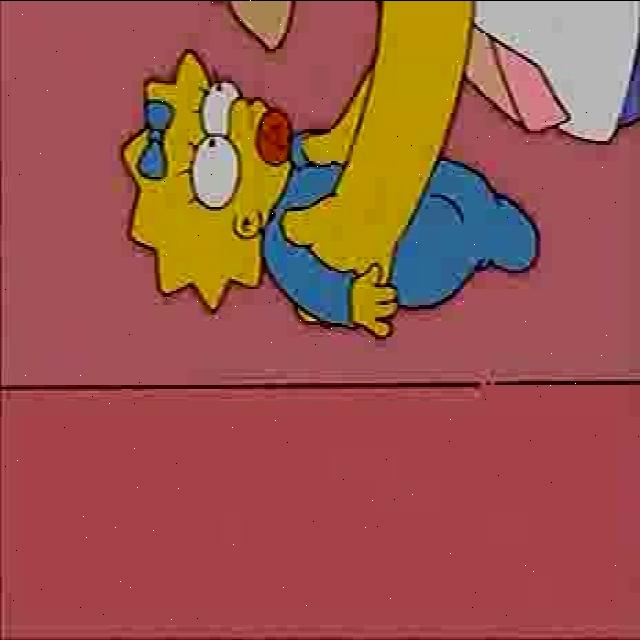Maggie Simpson: (118, 46, 294, 314)
